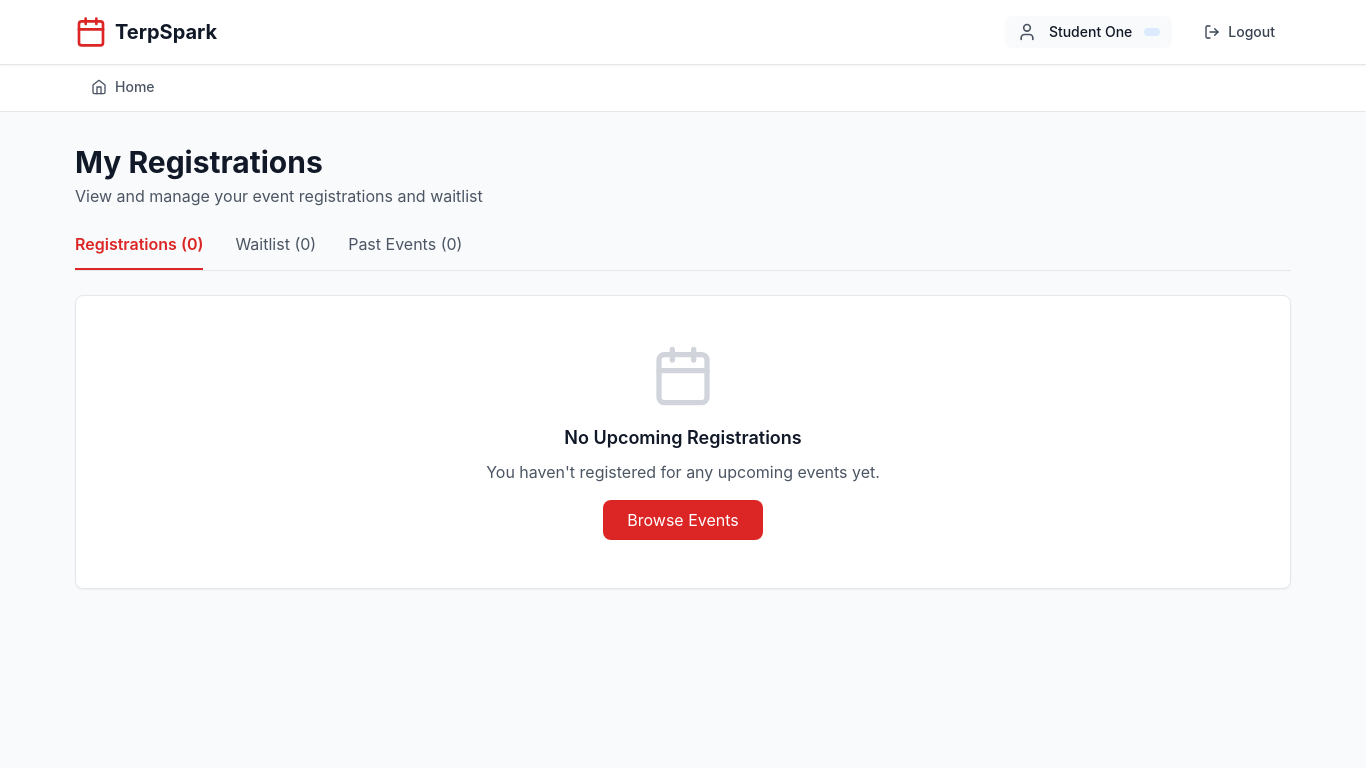
Test case: MyRegistrationsPage › shows empty states when no registrations or waitlist entries exist
Expected: the heading "No Upcoming Registrations" is shown, [564,427,802,448]
Expected: the text "You haven't registered for any upcoming events yet." is shown, [486,462,880,482]
Click the button "Waitlist (0)": (276, 251) [235,232,316,270]
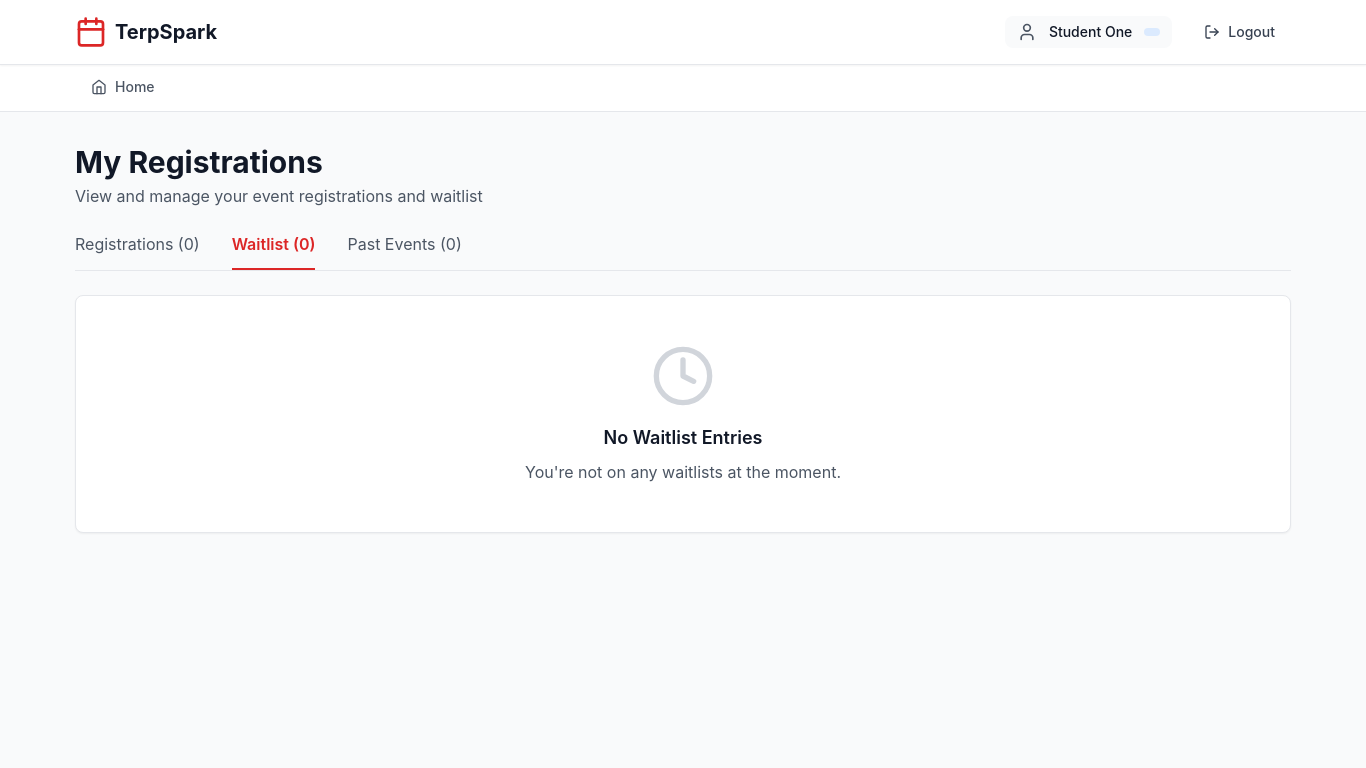
Expected: the heading "No Waitlist Entries" is shown, [604,427,762,448]
Click the button "Past Events (0)": (405, 251) [348,232,462,270]
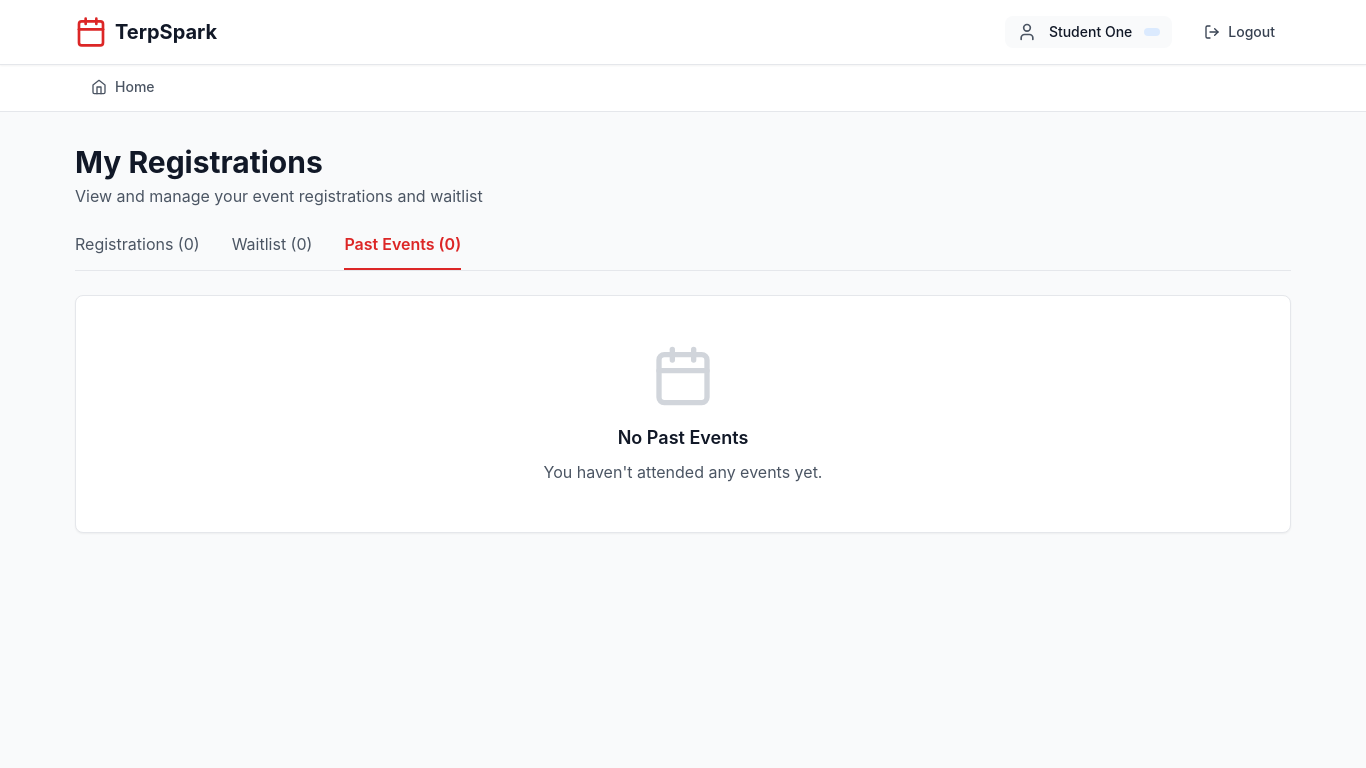
Expected: the heading "No Past Events" is shown, [618,427,748,448]
